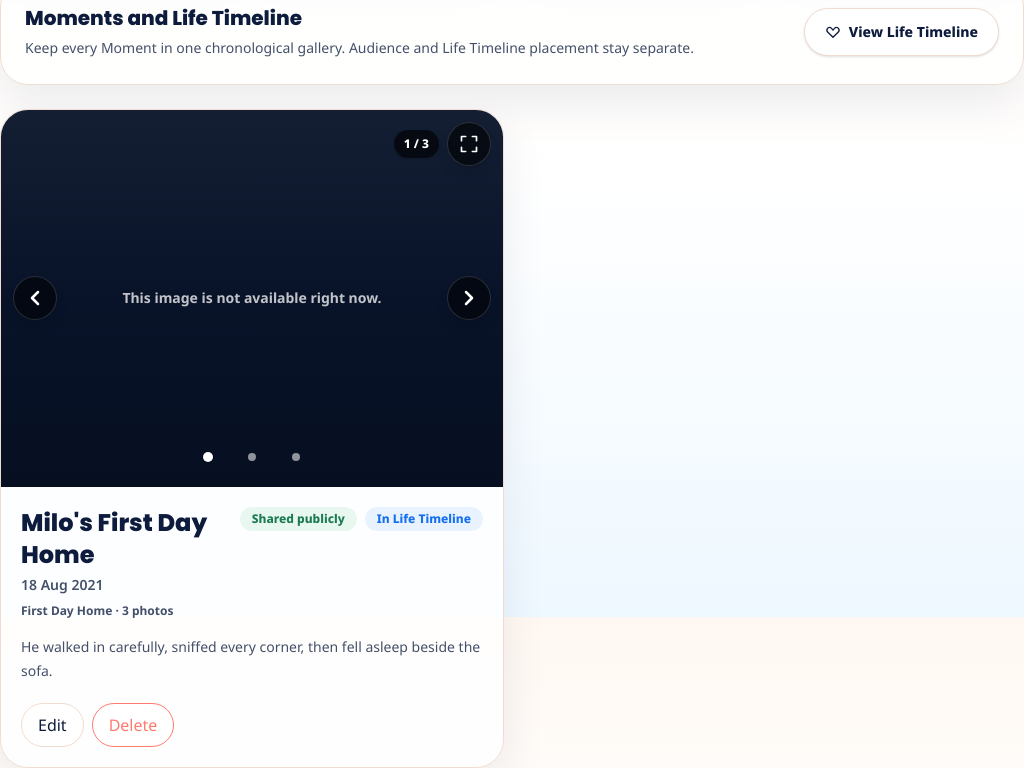
Test: PetMomentsManager shared edit flow › deep-links the shared editor, saves, closes, and refreshes the rendered card
The width and height of the screenshot is (1024, 768).
(page scrolled)
Expected: the heading "Milo's First Day Home" is shown, [21,506,228,570]
Click the button "Edit": coordinates (52, 724) [21,702,84,746]
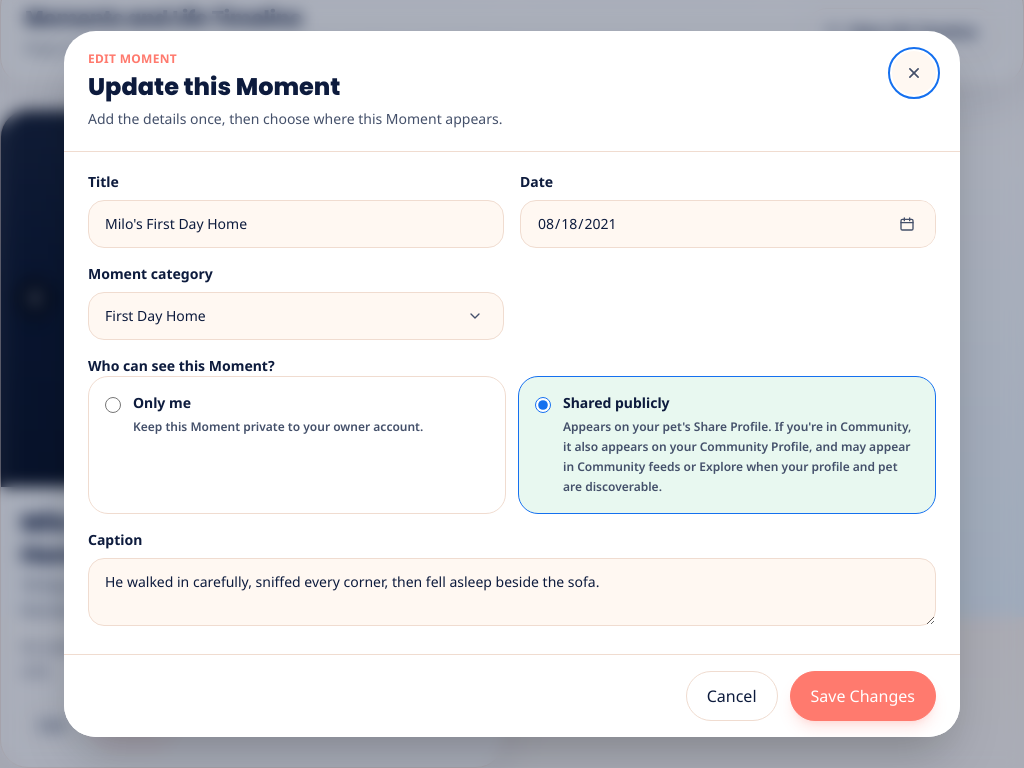
Expected: the dialog "Update this Moment" is shown
Replace the text in the field labelled "Title" with "Updated memory": coordinates (296, 224) [88,200,504,248]
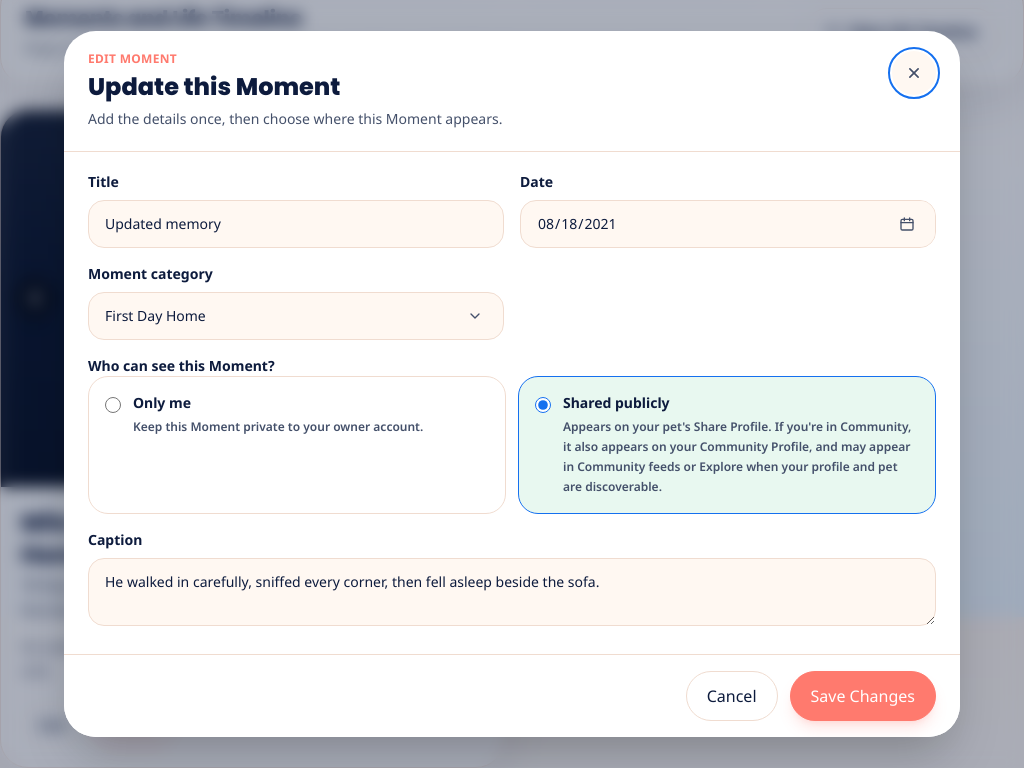
Click the button "Save Changes": coordinates (863, 696) [790,671,936,721]
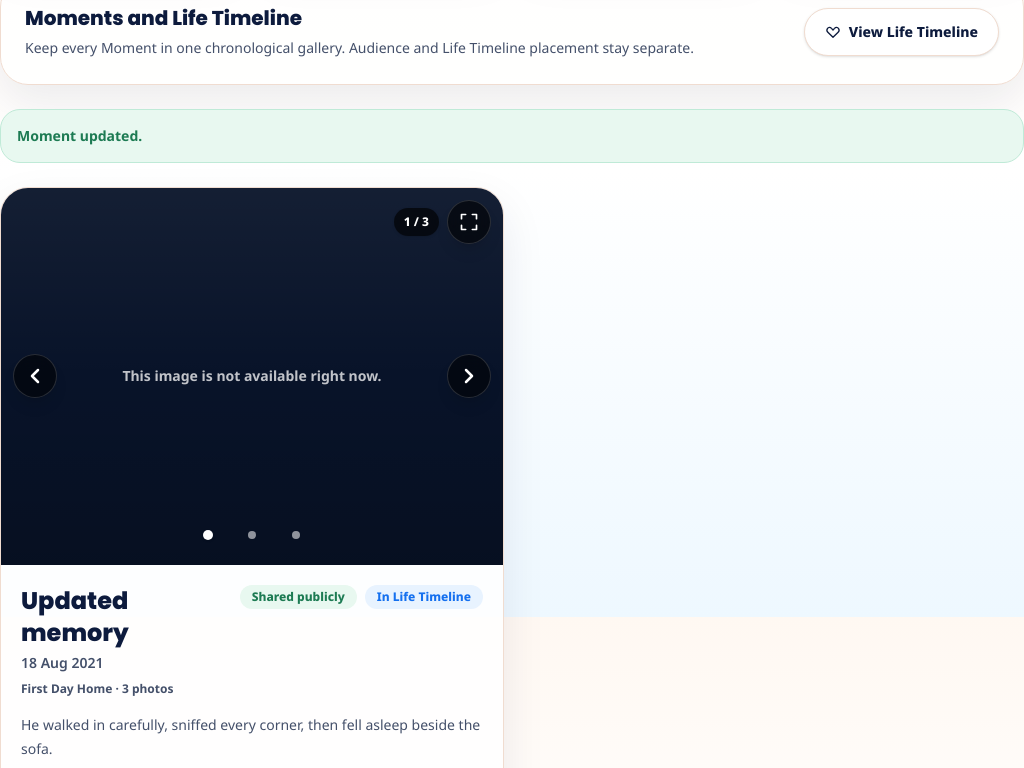
Expected: the heading "Updated memory" is shown, [21,584,129,648]
Expected: the heading "Update this Moment" is gone
